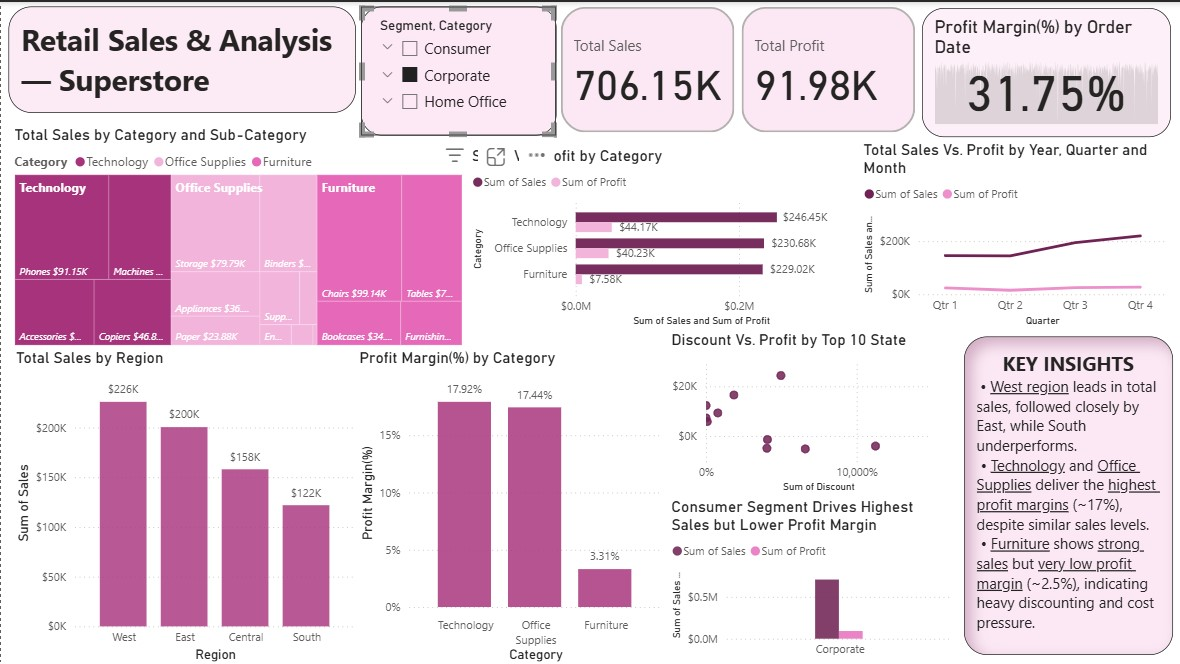

The dashboard page shown, as its layout file describes it:
{"tool":"powerbi","page":{"name":"Page 1","canvas":[1280,720],"ordinal":0},"visuals":[{"type":"treemap","title":"Total Sales by Category and Sub-Category","fields":{"Group":["Sample_ Superstore.Category"],"Values":["Sum(Sample_ Superstore.Sales)"],"Details":["Sample_ Superstore.Sub-Category"]},"box":[10,133.3,495,243.3],"z":0},{"type":"clusteredBarChart","title":"Sales Vs. Profit by Category","fields":{"Category":["Sample_ Superstore.Category"],"Y":["Sum(Sample_ Superstore.Sales)","Sum(Sample_ Superstore.Profit)"]},"box":[506,156,412,200],"z":1000},{"type":"columnChart","title":"Total Sales by Region","fields":{"Category":["Sample_ Superstore.Region"],"Y":["Sum(Sample_ Superstore.Sales)"]},"box":[12,376,378,344],"z":2000},{"type":"lineChart","title":"Total Sales Vs. Profit by Year, Quarter and Month","fields":{"Category":["Sample_ Superstore.Order Date.Variation.Date Hierarchy.Year","Sample_ Superstore.Order Date.Variation.Date Hierarchy.Quarter","Sample_ Superstore.Order Date.Variation.Date Hierarchy.Month","Sample_ Superstore.Order Date.Variation.Date Hierarchy.Day"],"Y":["Sum(Sample_ Superstore.Sales)","Sum(Sample_ Superstore.Profit)"]},"box":[930,150,338,206],"z":3000},{"type":"clusteredColumnChart","title":"Consumer Segment Drives Highest Sales but Lower Profit Margin","fields":{"Category":["Sample_ Superstore.Segment"],"Y":["Sum(Sample_ Superstore.Sales)","Sum(Sample_ Superstore.Profit)"]},"box":[721.7,536.7,315,183.3],"z":4000},{"type":"scatterChart","title":"Discount Vs. Profit by Top 10 State","fields":{"Category":["Sample_ Superstore.State"],"X":["Sum(Sample_ Superstore.Discount)"],"Y":["Sum(Sample_ Superstore.Profit)"]},"box":[721.7,356.7,315,180],"z":5000},{"type":"slicer","fields":{"Values":["Sample_ Superstore.Segment","Sample_ Superstore.Category"]},"box":[390,5,211.7,140],"z":6000},{"type":"textbox","box":[8.3,5,376.7,115],"z":7000},{"type":"kpi","fields":{"Indicator":["Sample_Superstore.Profit Margin %"],"TrendLine":["Sample_Superstore.Order Date"]},"box":[998,6,270,140],"z":8000},{"type":"cardVisual","fields":{"Data":["Sample_Superstore.Total Sales","Sample_Superstore.Total Profit"]},"box":[602,0,394,146],"z":9000},{"type":"clusteredColumnChart","fields":{"Y":["Sample_Superstore.Profit Margin(%)"],"Category":["Sample_Superstore.Category"]},"box":[384,376,338,344],"z":10000},{"type":"textbox","box":[1045,363.3,226.7,345],"z":11000}]}

Visuals, with their boxes in screenshot pixels (x1, y1, x2, y2), scaled from the page's 1280x720 canvas onto the 1180x664 screenshot:
"Total Sales by Category and Sub-Category" treemap: box=[9, 123, 466, 347]
"Sales Vs. Profit by Category" clusteredBarChart: box=[466, 144, 846, 328]
"Total Sales by Region" columnChart: box=[11, 347, 360, 663]
"Total Sales Vs. Profit by Year, Quarter and Month" lineChart: box=[857, 138, 1169, 328]
"Consumer Segment Drives Highest Sales but Lower Profit Margin" clusteredColumnChart: box=[665, 495, 956, 663]
"Discount Vs. Profit by Top 10 State" scatterChart: box=[665, 329, 956, 495]
slicer - Sample_ Superstore.Segment x Sample_ Superstore.Category: box=[360, 5, 555, 134]
textbox: box=[8, 5, 355, 111]
kpi - Sample_Superstore.Profit Margin % x Sample_Superstore.Order Date: box=[920, 6, 1169, 135]
cardVisual - Sample_Superstore.Total Sales x Sample_Superstore.Total Profit: box=[555, 0, 918, 135]
clusteredColumnChart - Sample_Superstore.Profit Margin(%) x Sample_Superstore.Category: box=[354, 347, 666, 663]
textbox: box=[963, 335, 1172, 653]
